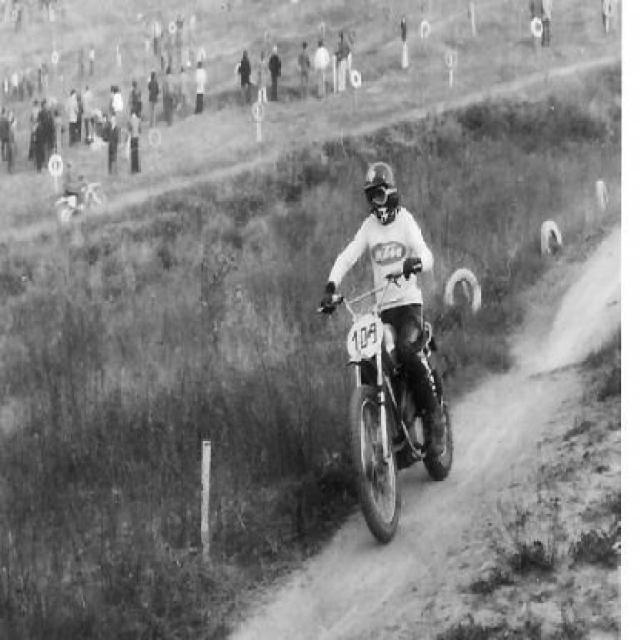Cycle: (316, 144, 462, 582)
